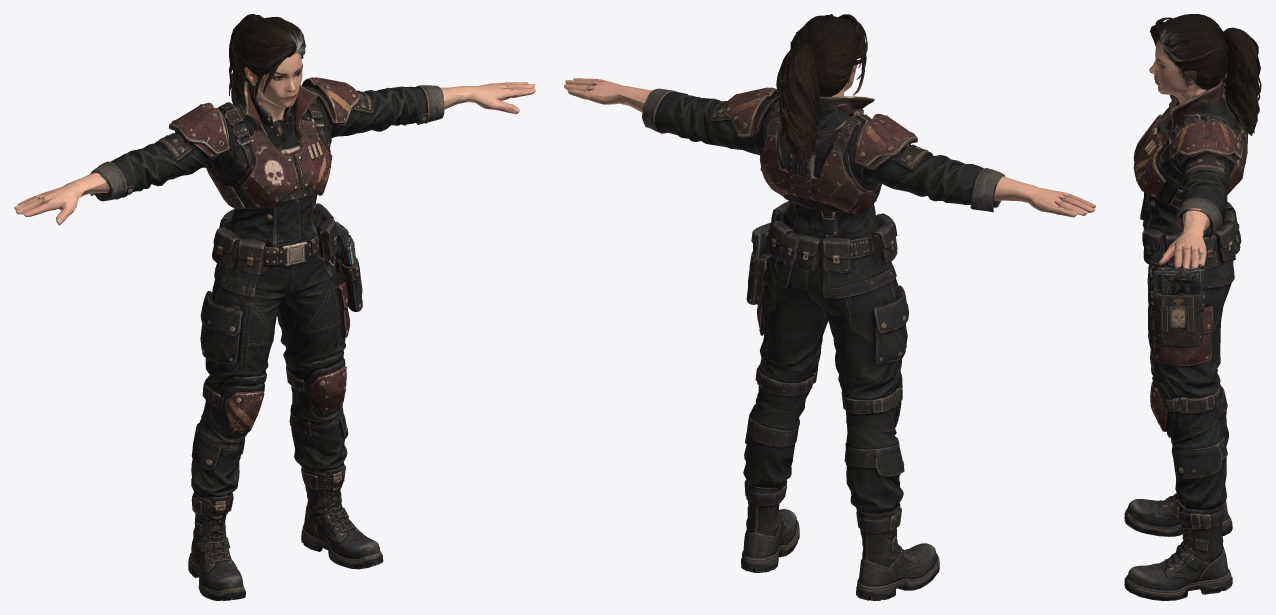
The model's file is aeon-leader.glb.
3 renders of one model, left to right at view 1: azimuth 30°, elevation 25°; view 2: azimuth 150°, elevation 25°; view 3: azimuth 270°, elevation 25°, orthographic. The views are drawn at different scales.
Parts seen in each view (by area): view 1: mesh_node; view 2: mesh_node; view 3: mesh_node.
Part boxes in pixels (x1=…): mesh_node: x1=14, y1=14, x2=535, y2=600; mesh_node: x1=564, y1=14, x2=1095, y2=600; mesh_node: x1=1124, y1=14, x2=1261, y2=600.
Size of the model in its own units: 1.89 by 1.9 by 0.4337.
Materials: 1 (1 with a texture image).
